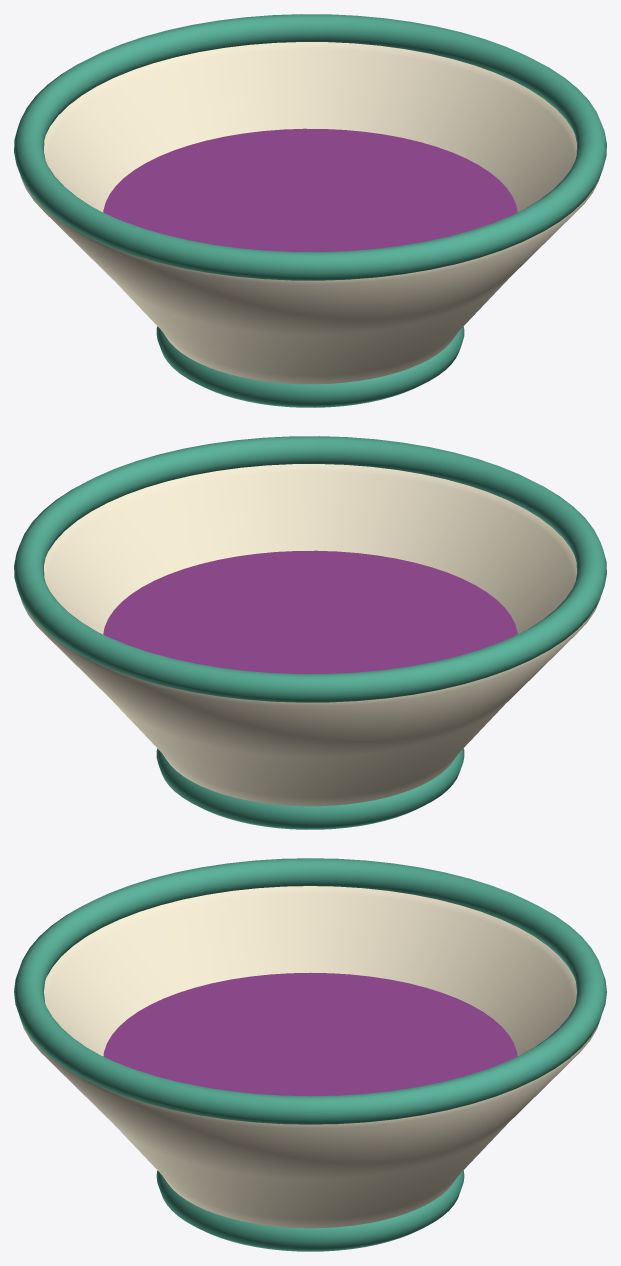
Rendered from prop-wine-bowl.glb.
3 renders of one model, top to bottom at view 1: azimuth 30°, elevation 25°; view 2: azimuth 150°, elevation 25°; view 3: azimuth 270°, elevation 25°, orthographic.
Parts seen in each view (by area): view 1: prop-wine-bowl; view 2: prop-wine-bowl; view 3: prop-wine-bowl.
Part boxes in pixels (x1,y1,x2,y2): prop-wine-bowl: [14, 14, 606, 407]; prop-wine-bowl: [14, 436, 606, 829]; prop-wine-bowl: [14, 858, 606, 1251].
Size of the model in its own units: 0.832 by 0.3297 by 0.832.
